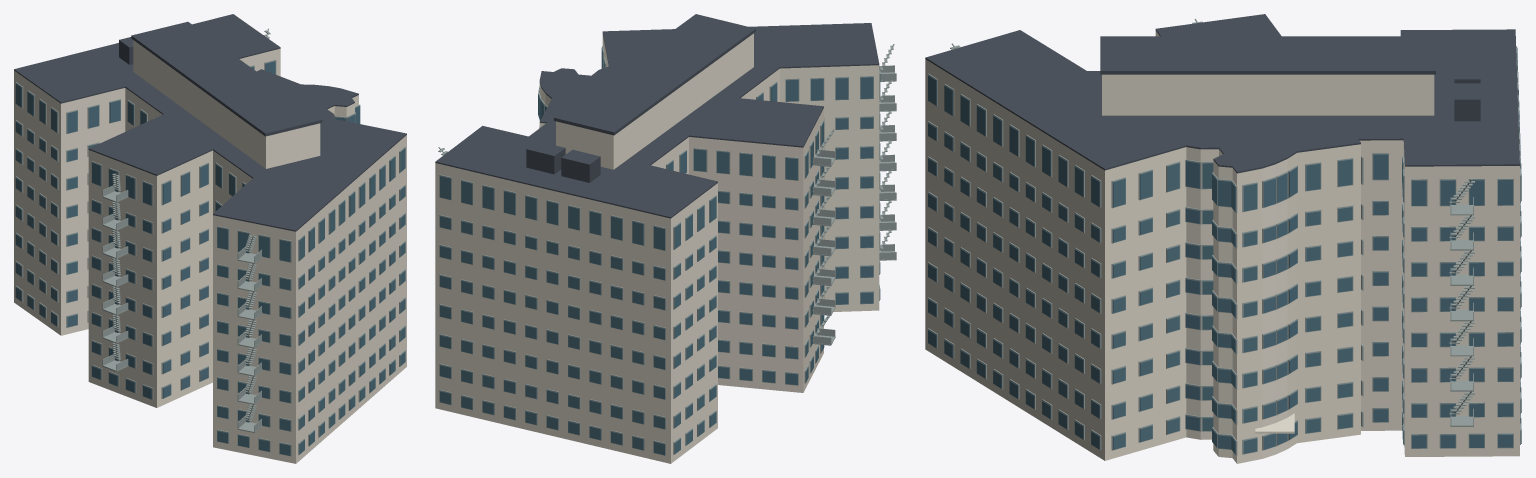
File: hnk-sloterdijk.glb
The picture shows the model from 3 angles, left to right: view 1: azimuth 30°, elevation 25°; view 2: azimuth 150°, elevation 25°; view 3: azimuth 270°, elevation 25°; orthographic projection. The views are drawn at different scales.
Parts seen in each view (by area): view 1: hnk-sloterdijk; view 2: hnk-sloterdijk; view 3: hnk-sloterdijk.
Boxes of the visible parts, x1,y1,x2,y2 form: hnk-sloterdijk: [14, 14, 406, 463]; hnk-sloterdijk: [435, 14, 896, 463]; hnk-sloterdijk: [925, 14, 1521, 463].
Bounding box in the file's own units: 44.53 × 42.56 × 68.21.
